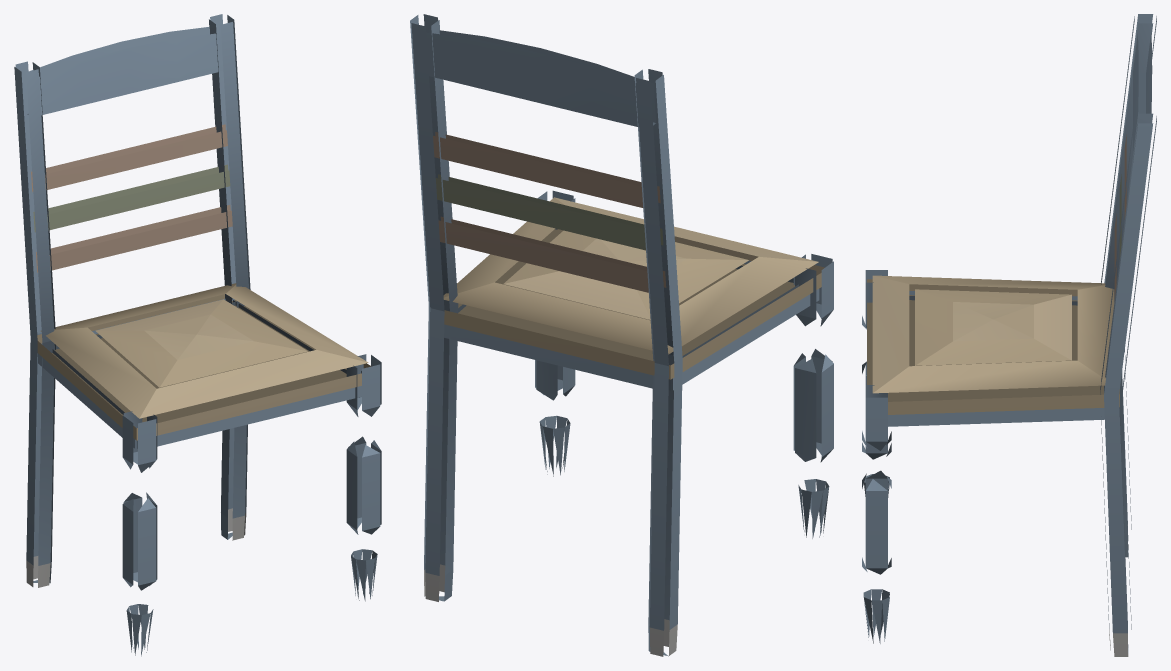
File: chair.lod.glb
The picture shows the model from 3 angles, left to right: view 1: azimuth 30°, elevation 25°; view 2: azimuth 150°, elevation 25°; view 3: azimuth 270°, elevation 25°; orthographic projection. The views are drawn at different scales.
Parts seen in each view (by area): view 1: chair; view 2: chair; view 3: chair.
Boxes of the visible parts, bbox=[...] form: chair: bbox=[14, 14, 381, 656]; chair: bbox=[410, 14, 833, 656]; chair: bbox=[862, 14, 1156, 656].
Size of the model in its own units: 0.46 by 0.898 by 0.4492.
